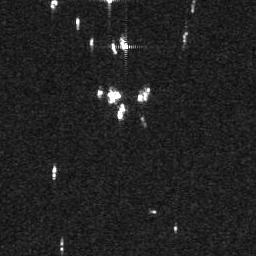ship: (117, 102, 126, 122), (118, 36, 129, 51), (110, 43, 118, 55), (51, 165, 57, 179), (75, 17, 81, 30), (89, 36, 94, 46)
